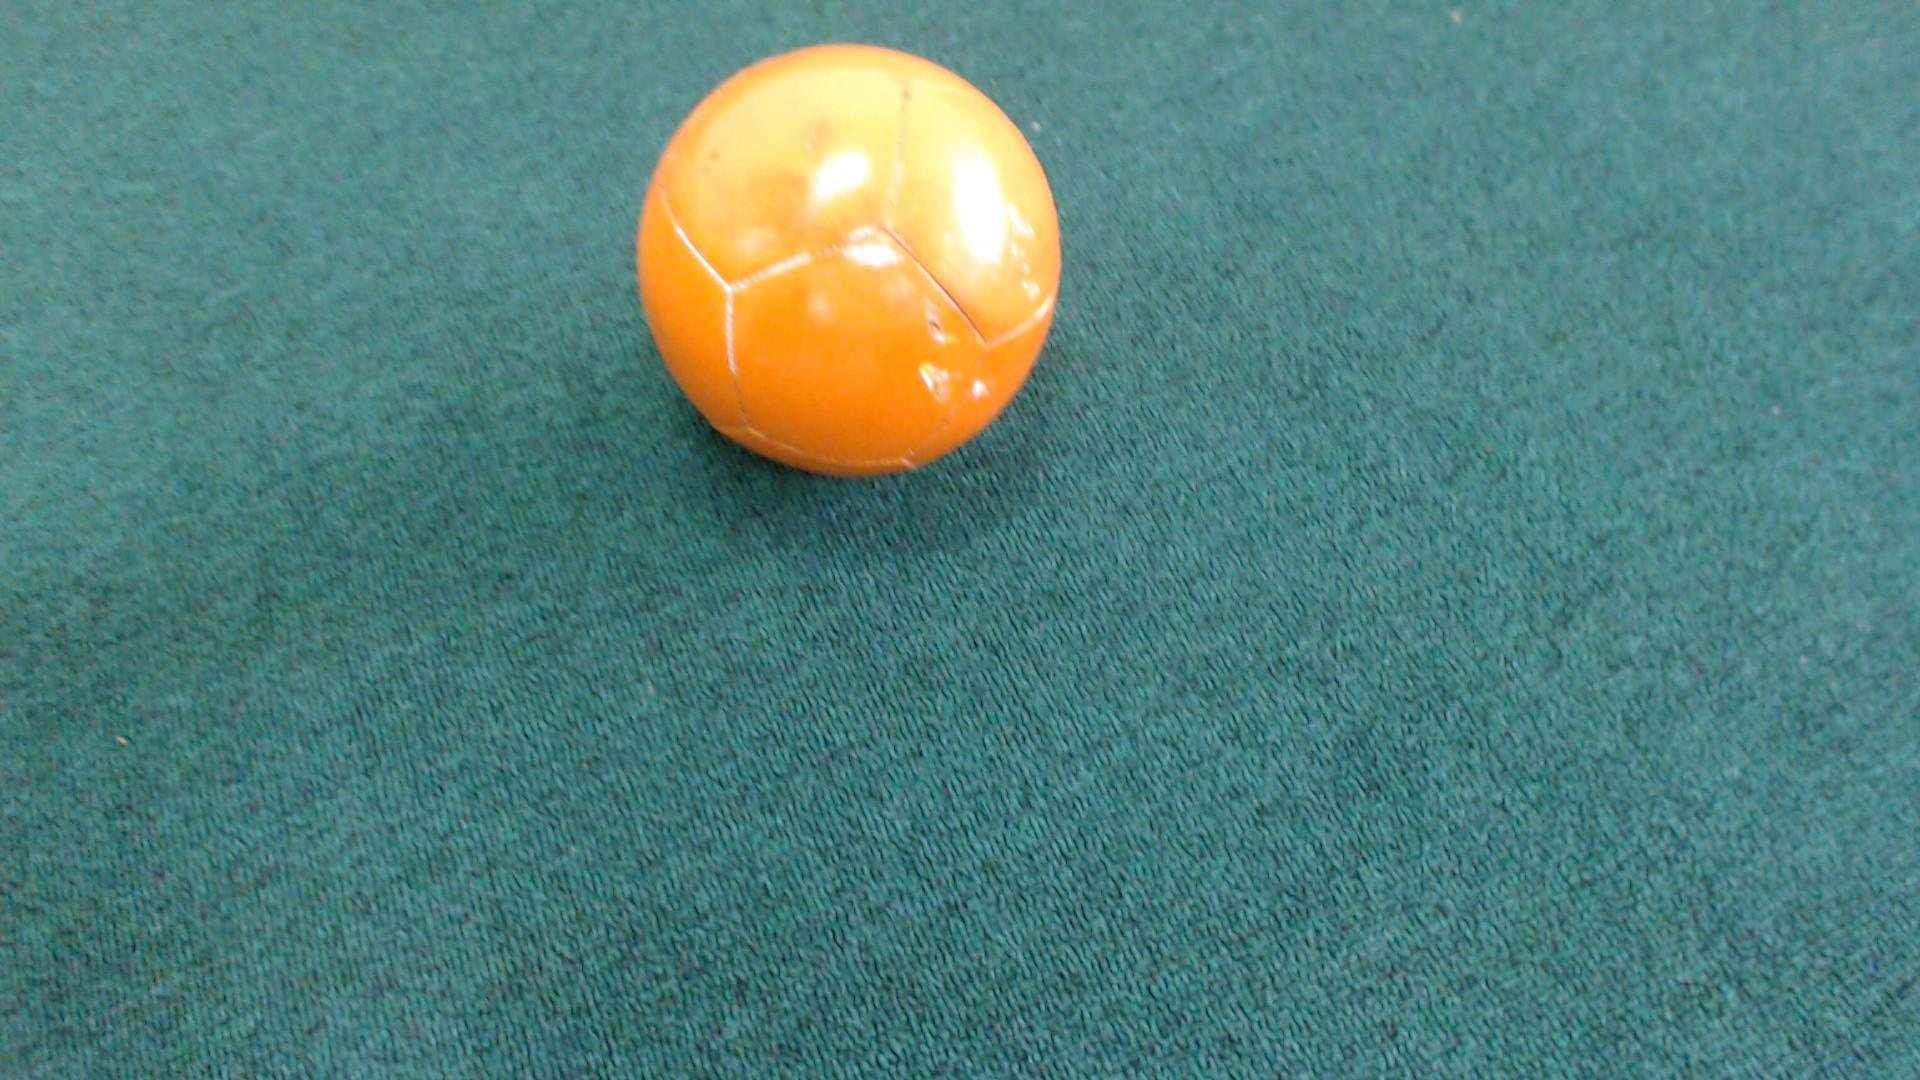bola: (615, 40, 1105, 517)
